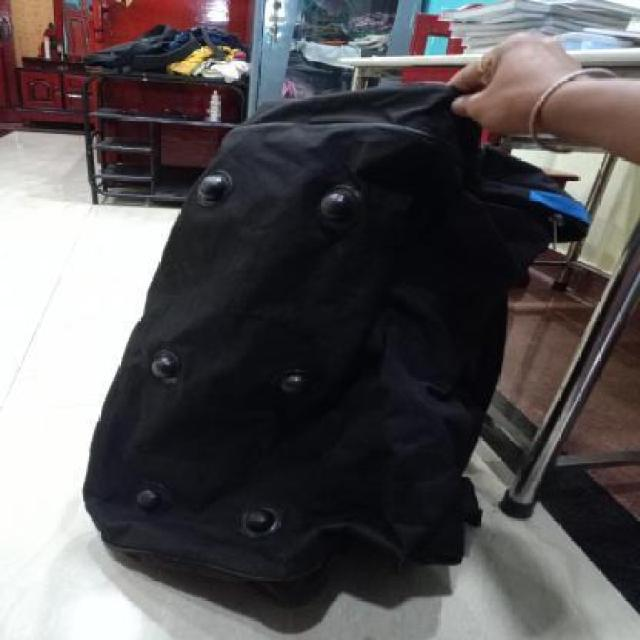backpack: (78, 77, 592, 611)
